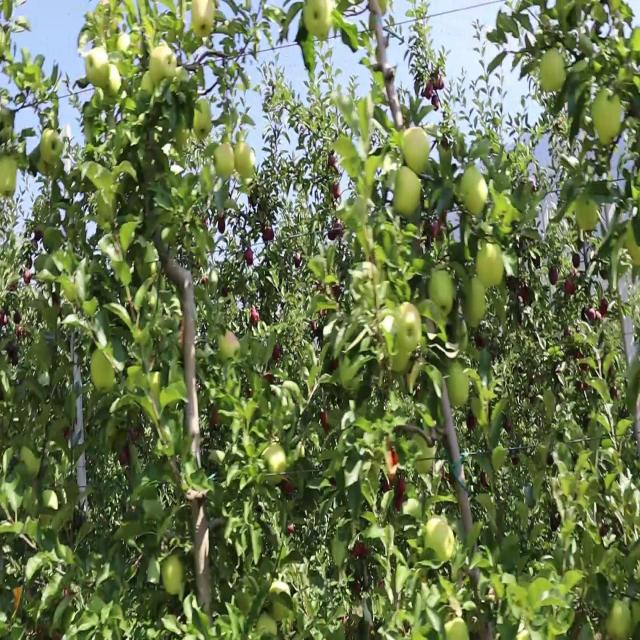apple: (380, 298, 411, 356), (592, 92, 624, 148), (460, 163, 489, 220), (392, 170, 423, 222), (460, 277, 488, 332), (476, 241, 505, 292), (404, 127, 432, 178), (428, 270, 456, 318), (304, 1, 333, 43), (540, 49, 568, 92), (400, 305, 424, 354), (388, 335, 415, 377), (92, 348, 116, 395), (448, 362, 471, 411), (164, 554, 186, 597), (192, 1, 215, 41), (40, 127, 64, 164), (152, 49, 175, 87), (576, 199, 600, 235), (192, 99, 212, 142), (380, 298, 400, 340), (608, 604, 632, 638), (88, 49, 109, 87), (388, 348, 415, 377), (236, 142, 256, 180), (104, 63, 122, 105), (216, 142, 235, 181), (0, 156, 17, 199), (384, 447, 400, 491), (268, 447, 288, 476), (220, 334, 240, 361), (28, 149, 48, 176), (628, 227, 640, 270), (548, 92, 567, 117), (140, 71, 156, 100), (368, 0, 389, 20), (204, 163, 216, 196), (396, 476, 407, 512), (424, 405, 441, 428), (32, 156, 49, 178), (352, 540, 369, 560), (176, 127, 190, 151), (48, 163, 64, 183), (564, 277, 577, 299), (240, 177, 255, 196), (432, 71, 445, 92), (632, 170, 640, 204), (320, 412, 332, 434), (608, 7, 627, 20), (424, 78, 435, 100), (120, 447, 131, 469), (520, 284, 531, 306), (244, 248, 256, 268), (632, 28, 640, 55), (264, 227, 276, 244), (432, 92, 441, 114), (252, 305, 261, 327), (440, 135, 451, 151), (284, 483, 297, 496), (16, 590, 24, 610), (220, 213, 227, 235), (272, 348, 281, 363), (552, 270, 560, 286), (216, 7, 224, 23), (212, 412, 220, 427)
